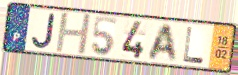4: (120, 19, 146, 60)
5: (91, 14, 119, 58)
A: (146, 23, 178, 63)
H: (53, 12, 93, 55)
J: (30, 11, 58, 50)
L: (182, 25, 206, 65)
